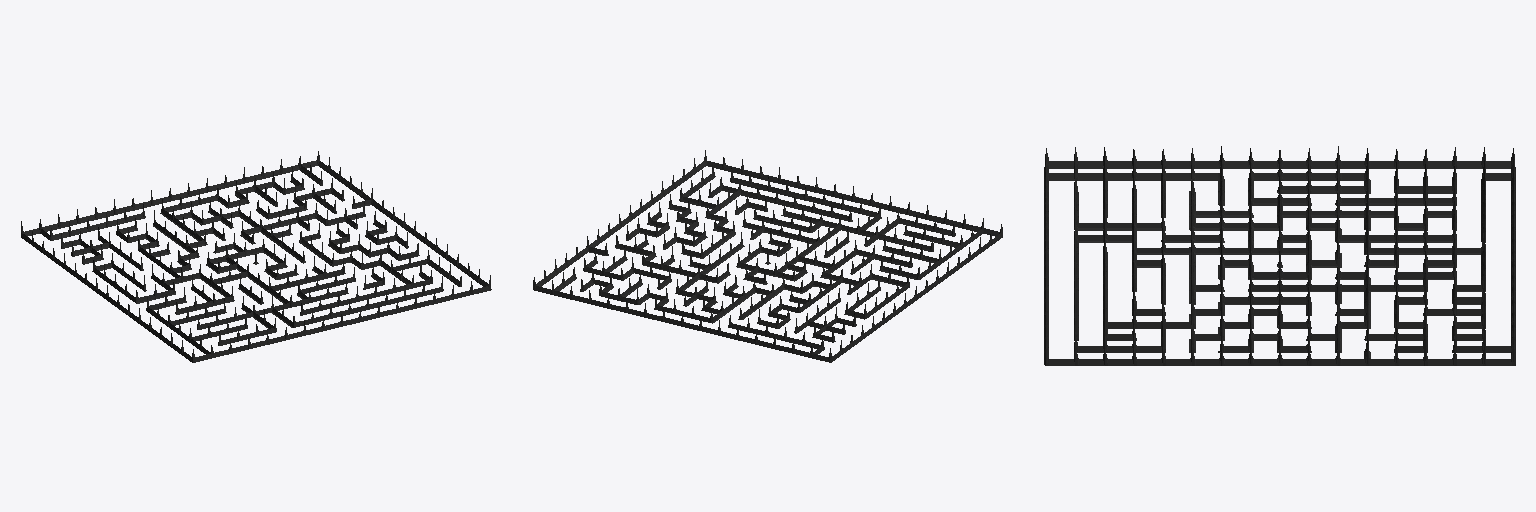
The robot description file, URDF, robot "2010robotic":
<?xml version="1.0"?> 
<robot name="2010robotic">

    <material name="black">
        <color rgba="0.2 0.2 0.2 0.95"/>
    </material>

    <link name="base_link">
        <visual>
            <origin xyz="0.0 0.0 0.05" rpy="0.0 0.0 0.0"/>
            <geometry>
                <mesh filename="meshes/2010robotic.obj" scale="0.02 0.02 0.01" />
            </geometry>
          <material name="black"/>
        </visual>

        <collision concave="yes" name="collision_0">
           <origin xyz="0.0 0.0 0.05" rpy="0.0 0.0 0.0"/>
            <geometry>
                <mesh filename="meshes/2010robotic.obj" scale="0.02 0.02 0.01" />
            </geometry>
        </collision>

        <inertial> 
            <mass value="0"/>
            <inertia ixx="0" ixy="0" ixz="0" iyy="0" iyz="0" izz="0"/>
        </inertial> 

    </link>
</robot>

--- What the picture shows (computed from the rendered views, not written in the file) ---
The picture shows the robot from 3 angles, left to right: view 1: azimuth 30°, elevation 25°; view 2: azimuth 150°, elevation 25°; view 3: azimuth 270°, elevation 25°; orthographic projection.
Robot: 2010robotic — 1 links, 0 joints (none); root link base_link; default pose: all joints at 0.
Links seen in each view (by area): view 1: base_link; view 2: base_link; view 3: base_link.
Link boxes in pixels (x1,y1,x2,y2): base_link: (21, 151, 491, 362); base_link: (533, 150, 1002, 362); base_link: (1044, 146, 1515, 365).
Size in the robot's own frame: 2.01 by 2.01 by 0.1 metres.
Meshes: 1 distinct files referenced, 1 mesh visuals loaded (1 OBJ).
